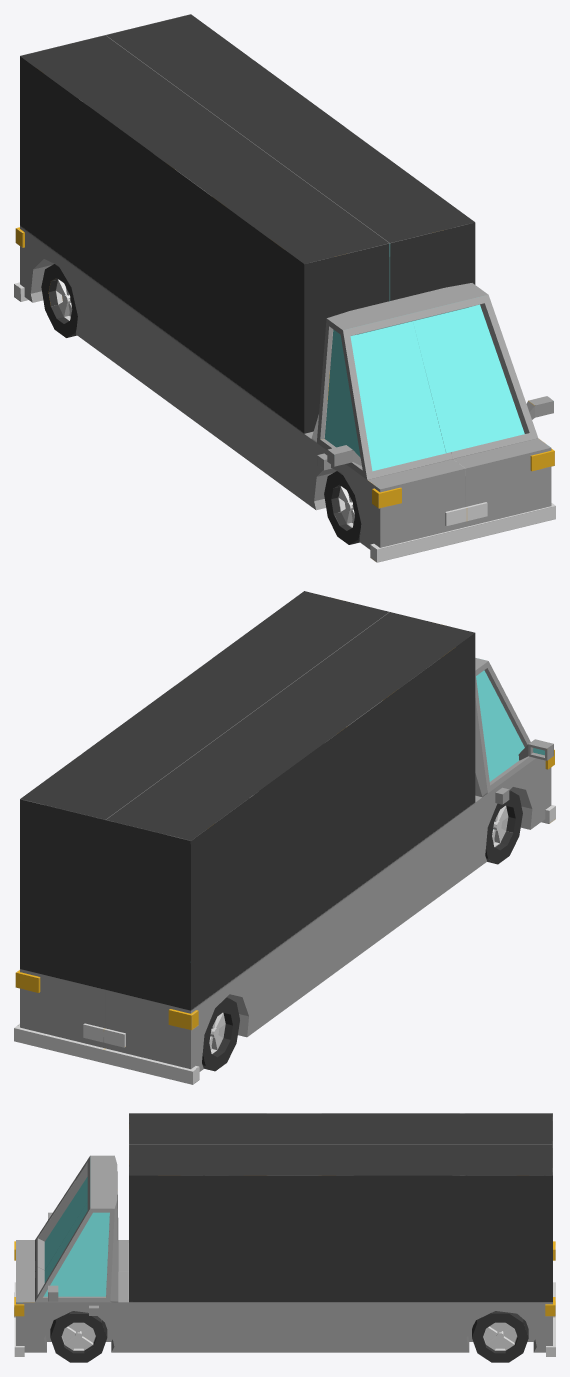
File: lorry.obj
The picture shows the model from 3 angles, top to bottom: view 1: azimuth 30°, elevation 25°; view 2: azimuth 150°, elevation 25°; view 3: azimuth 270°, elevation 25°; orthographic projection. The views are drawn at different scales.
Size of the model in its own units: 2.68 by 2.95 by 7.67.
1 material, 1 textured.
